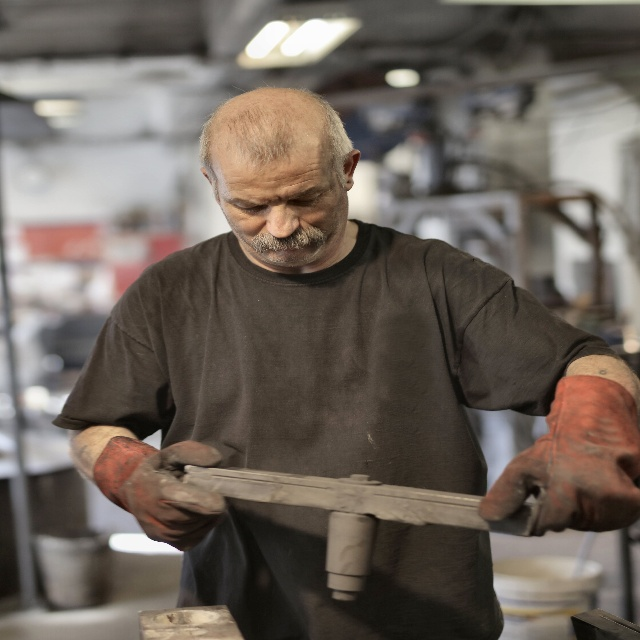Guantes: (478, 373, 640, 537), (93, 434, 229, 554)
